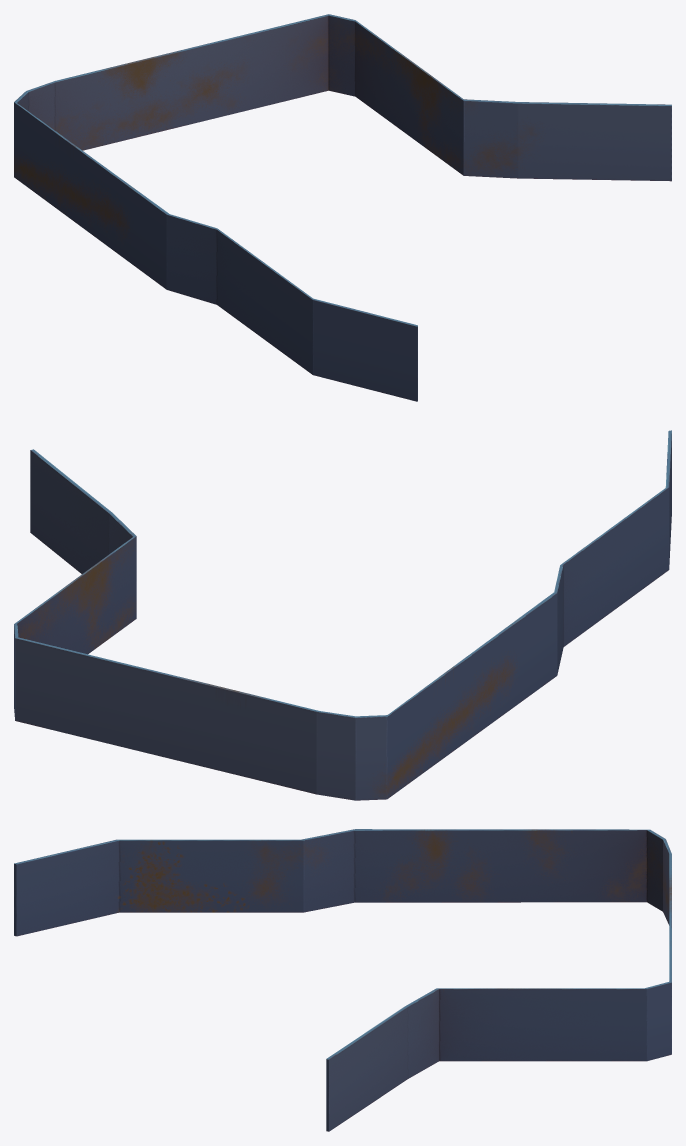
The model's file is Outerwall1.glb.
The picture shows the model from 3 angles, top to bottom: view 1: azimuth 30°, elevation 25°; view 2: azimuth 150°, elevation 25°; view 3: azimuth 270°, elevation 25°; orthographic projection. The views are drawn at different scales.
Parts seen in each view (by area): view 1: pCube3; view 2: pCube3; view 3: pCube3.
Boxes of the visible parts, x1,y1,x2,y2 form: pCube3: (14, 14, 671, 401); pCube3: (14, 430, 671, 800); pCube3: (14, 829, 671, 1131).
Bounding box in the file's own units: 73.96 × 10.8 × 89.22.
Materials: 1 (1 with a texture image).
